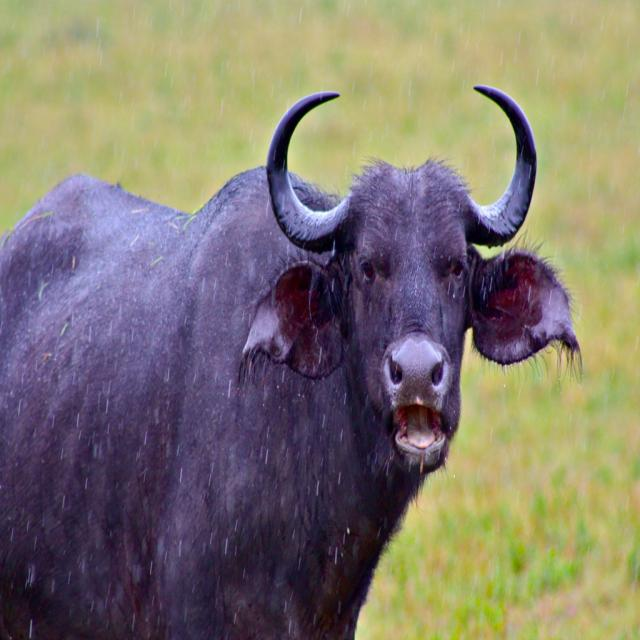Cattle: (0, 85, 586, 639)
